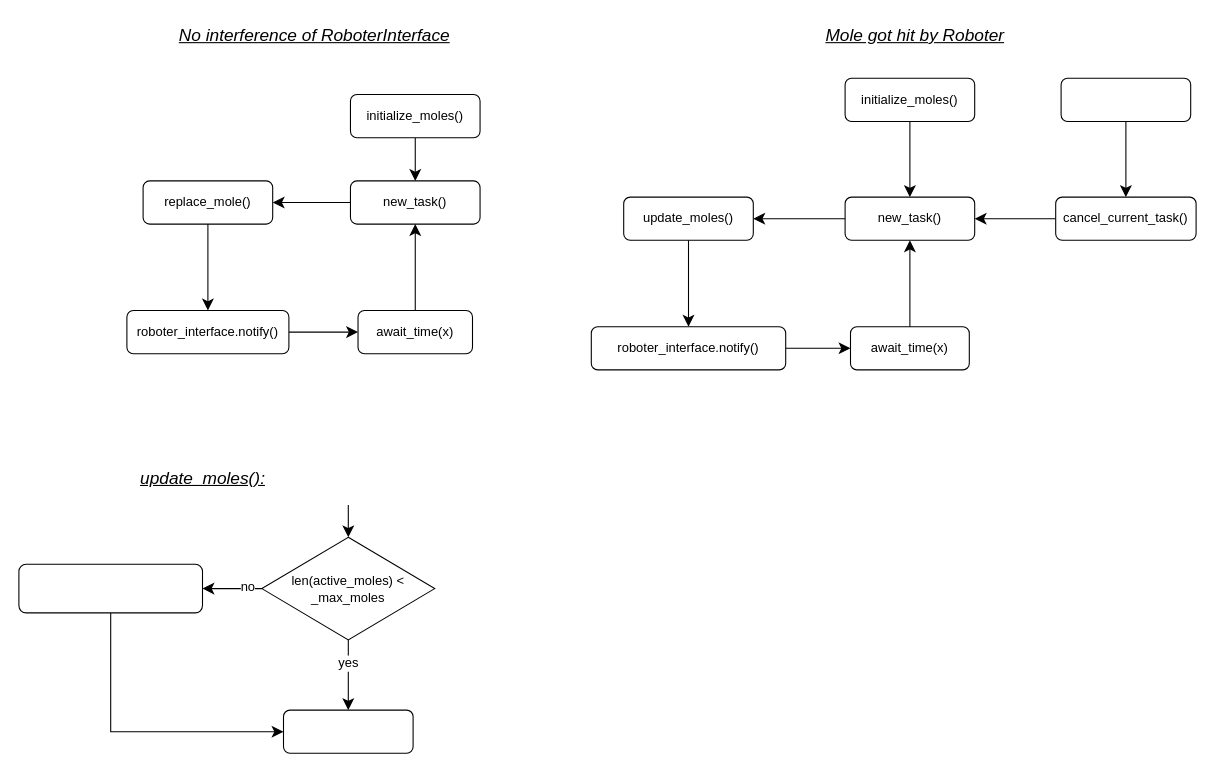
Image size: 1215x772. Some labels were removed from this diagram. The shapes that lost their labels are listed below. From the top down, each one's centre as x and y in pixels, then its label:
At point 1125,99: "mole_hit(mole)".
At point 110,588: "delete_random_active_mole()".
At point 347,731: "set_random_mole()".
